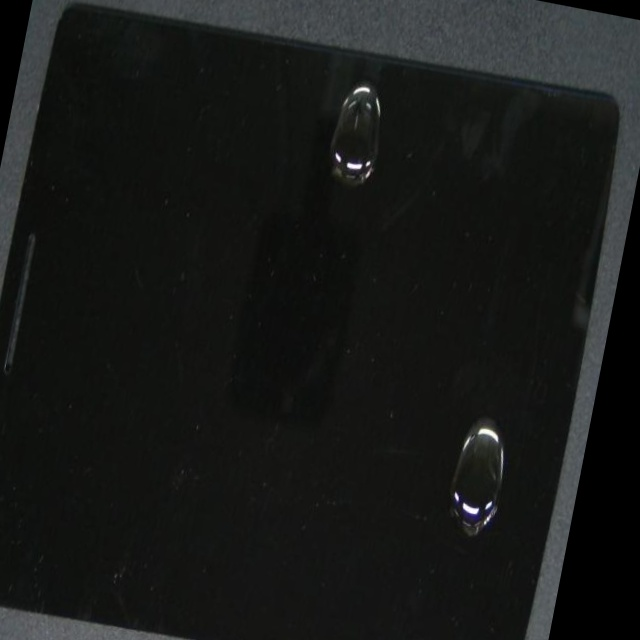oil: (194, 229, 615, 640), (188, 79, 572, 278)
